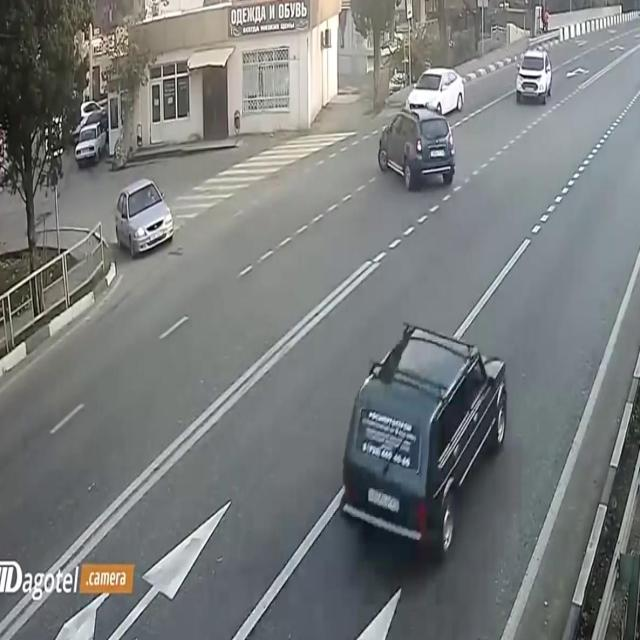non_accident: (373, 63, 472, 201)
